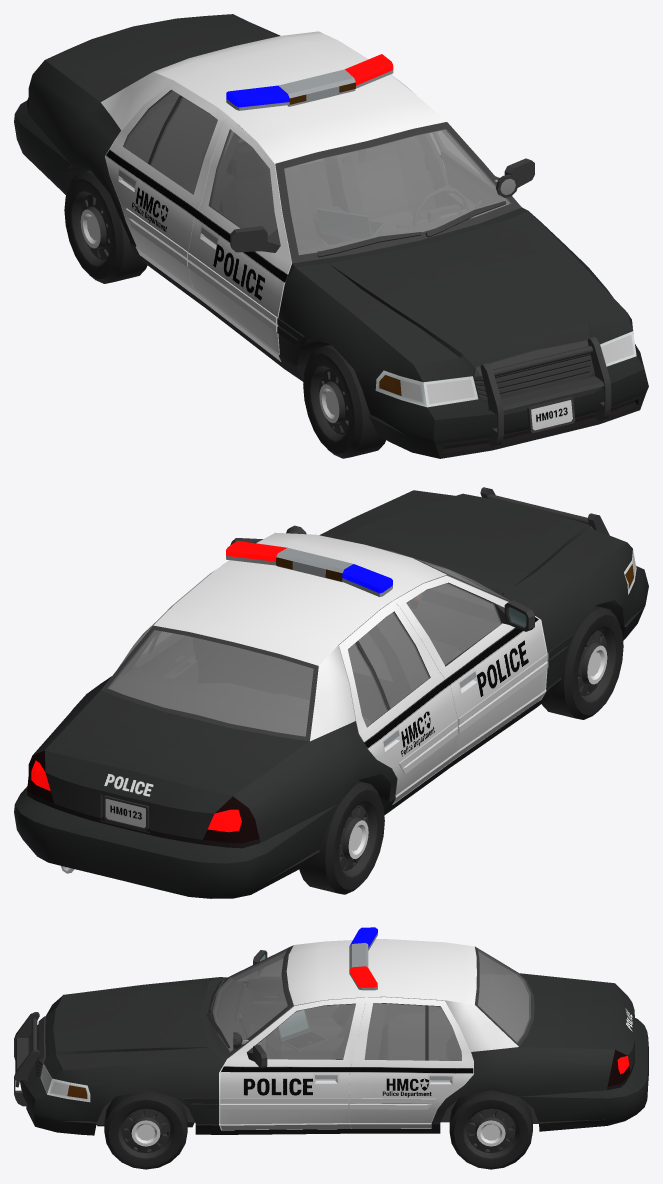
Rendered from Police.fbx.
3 renders of one model, top to bottom at view 1: azimuth 30°, elevation 25°; view 2: azimuth 150°, elevation 25°; view 3: azimuth 270°, elevation 25°, orthographic. The views are drawn at different scales.
Visible parts, largest first — view 1: Police_base, Police_hood, PDoor_FR, PDoor_BR, Police_trunk, P_WheelFR, P_Wheels_B, Police_light, PDoor_FL, Police_notebook, Police_steering_wheel; view 2: Police_base, Police_trunk, Police_hood, PDoor_FR, PDoor_BR, P_Wheels_B, P_WheelFR, Police_light, PDoor_BL; view 3: Police_base, PDoor_FL, PDoor_BL, Police_hood, Police_trunk, P_WheelFL, P_Wheels_B, PDoor_FR, Police_light, Police_notebook, PDoor_BR.
Part boxes in pixels (bbox=[...]): Police_base: bbox=[14, 14, 648, 458]; Police_hood: bbox=[295, 211, 626, 364]; PDoor_FR: bbox=[187, 117, 291, 361]; PDoor_BR: bbox=[105, 81, 229, 294]; Police_trunk: bbox=[45, 14, 278, 102]; P_WheelFR: bbox=[303, 344, 385, 458]; P_Wheels_B: bbox=[64, 170, 147, 283]; Police_light: bbox=[226, 54, 393, 110]; PDoor_FL: bbox=[397, 79, 534, 209]; Police_notebook: bbox=[317, 208, 385, 238]; Police_steering_wheel: bbox=[412, 188, 468, 226]; Police_base: bbox=[14, 487, 648, 898]; Police_trunk: bbox=[45, 690, 309, 844]; Police_hood: bbox=[319, 490, 626, 603]; PDoor_FR: bbox=[393, 575, 547, 763]; PDoor_BR: bbox=[338, 601, 458, 804]; P_Wheels_B: bbox=[299, 781, 384, 894]; P_WheelFR: bbox=[542, 606, 623, 719]; Police_light: bbox=[226, 540, 392, 596]; PDoor_BL: bbox=[134, 570, 214, 683]; Police_base: bbox=[14, 939, 648, 1135]; PDoor_FL: bbox=[220, 997, 365, 1129]; PDoor_BL: bbox=[349, 997, 473, 1128]; Police_hood: bbox=[53, 977, 219, 1070]; Police_trunk: bbox=[519, 973, 634, 1075]; P_WheelFL: bbox=[104, 1090, 187, 1169]; P_Wheels_B: bbox=[449, 1090, 532, 1169]; PDoor_FR: bbox=[237, 950, 337, 1036]; Police_light: bbox=[349, 927, 377, 990]; Police_notebook: bbox=[277, 1010, 328, 1051]; PDoor_BR: bbox=[383, 1004, 439, 1026].
Size of the model in its own units: 84.97 by 62.79 by 213.
